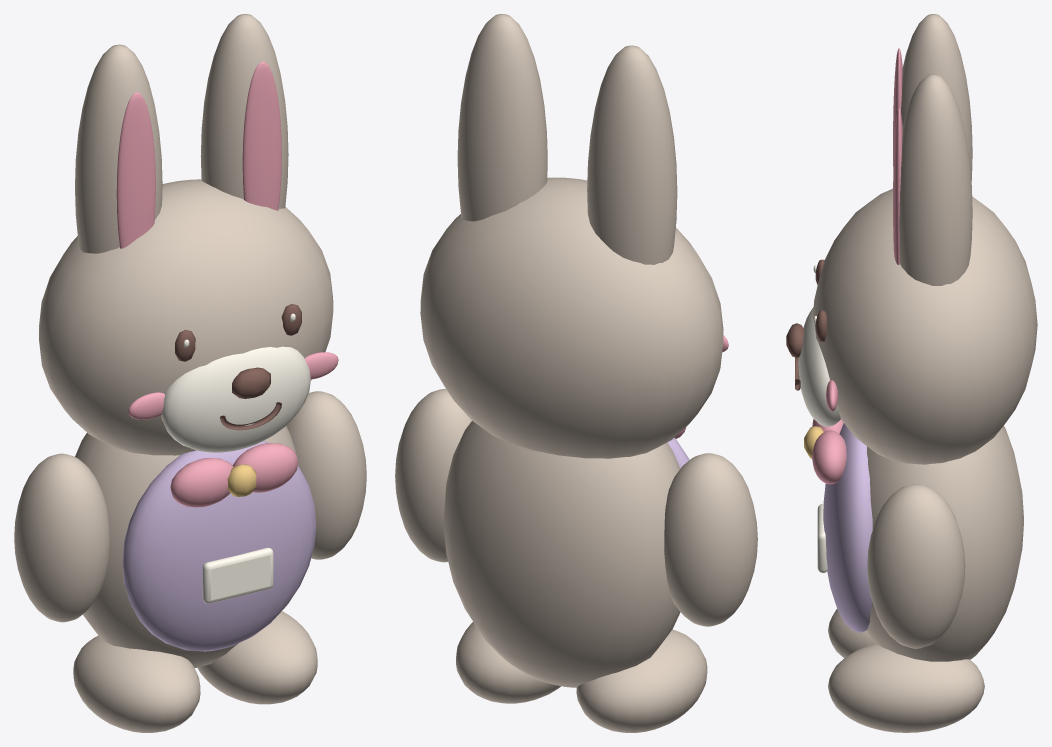
Rendered from bunny.glb.
3 views of the same model, side by side, from view 1: azimuth 30°, elevation 25°; view 2: azimuth 150°, elevation 25°; view 3: azimuth 270°, elevation 25° (orthographic). The views are drawn at different scales.
Parts seen in each view (by area): view 1: Head bunny, Body bunny, Body lilac, PawLeft, Head pink, Head white, PawRight, Body pink, Body white, Head dark, Body gold; view 2: Head bunny, Body bunny, PawLeft, PawRight; view 3: Head bunny, Body bunny, PawRight, Body lilac, Head white, Head pink, Body pink, Head dark, Body white.
Part boxes in pixels (x1,y1,x2,y2): Head bunny: (39, 14, 333, 455); Body bunny: (73, 426, 317, 732); Body lilac: (122, 441, 316, 651); PawLeft: (14, 453, 109, 622); Head pink: (116, 61, 338, 419); Head white: (161, 313, 310, 452); PawRight: (286, 391, 366, 559); Body pink: (170, 443, 298, 507); Body white: (202, 547, 273, 603); Head dark: (175, 304, 301, 430); Body gold: (227, 464, 256, 496); Head bunny: (420, 14, 723, 458); Body bunny: (443, 421, 707, 732); PawLeft: (664, 453, 757, 626); PawRight: (395, 389, 471, 562); Head bunny: (812, 14, 1037, 464); Body bunny: (828, 425, 1023, 732); PawRight: (867, 484, 965, 648); Body lilac: (823, 423, 872, 632); Head white: (798, 265, 840, 426); Head pink: (826, 48, 902, 411); Body pink: (812, 419, 846, 484); Head dark: (786, 259, 827, 390); Body white: (817, 504, 827, 572).
Size of the model in its own units: 1.56 by 2.94 by 1.02.
